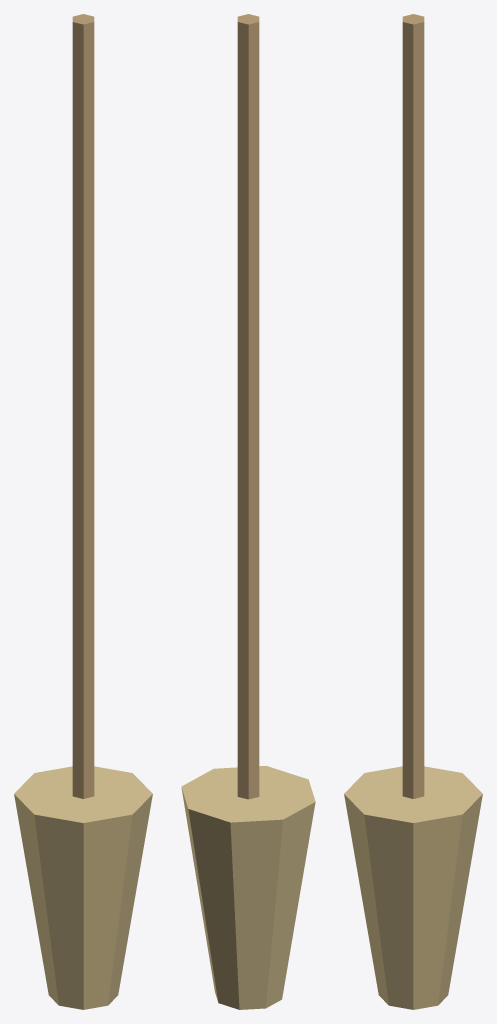
Rendered from Broom.fbx.
3 views of the same model, side by side, from view 1: azimuth 90°, elevation 25°; view 2: azimuth 210°, elevation 25°; view 3: azimuth 270°, elevation 25° (orthographic).
Parts seen in each view (by area): view 1: Broom; view 2: Broom; view 3: Broom.
Boxes of the visible parts, left/top/right/bottom form: Broom: left=14, top=14, right=152, bottom=1009; Broom: left=181, top=14, right=315, bottom=1009; Broom: left=344, top=14, right=482, bottom=1009.
Bounding box in the file's own units: 0.2 × 1.55 × 0.2.
